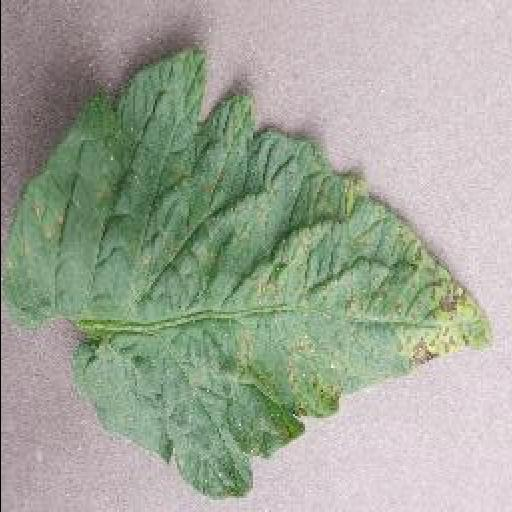disease_tomato: (3, 46, 493, 502)
